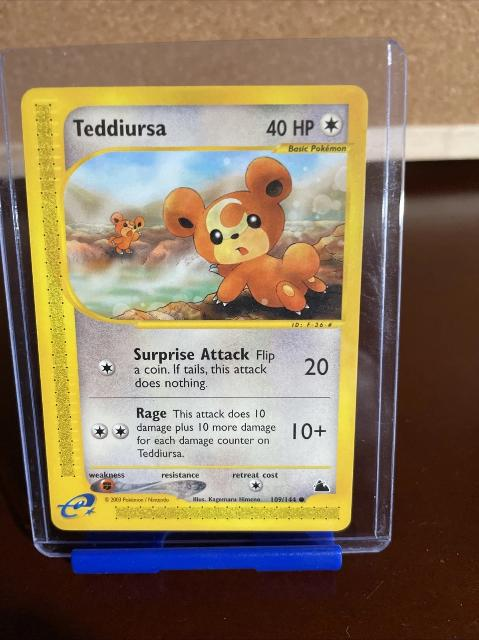Card: (16, 82, 373, 536)
Name: (68, 112, 171, 145)
